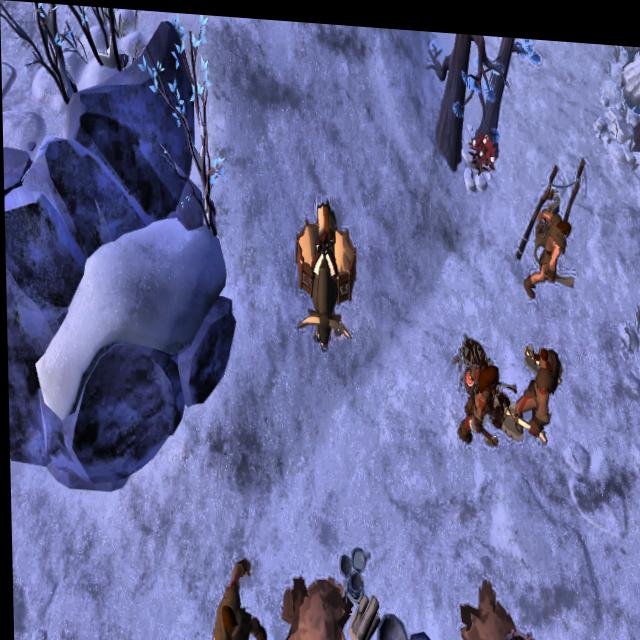enemy_factionKeeper: (519, 191, 575, 300), (199, 552, 261, 640), (449, 338, 499, 444), (510, 334, 561, 432)
fiber_t5: (467, 121, 497, 168)
